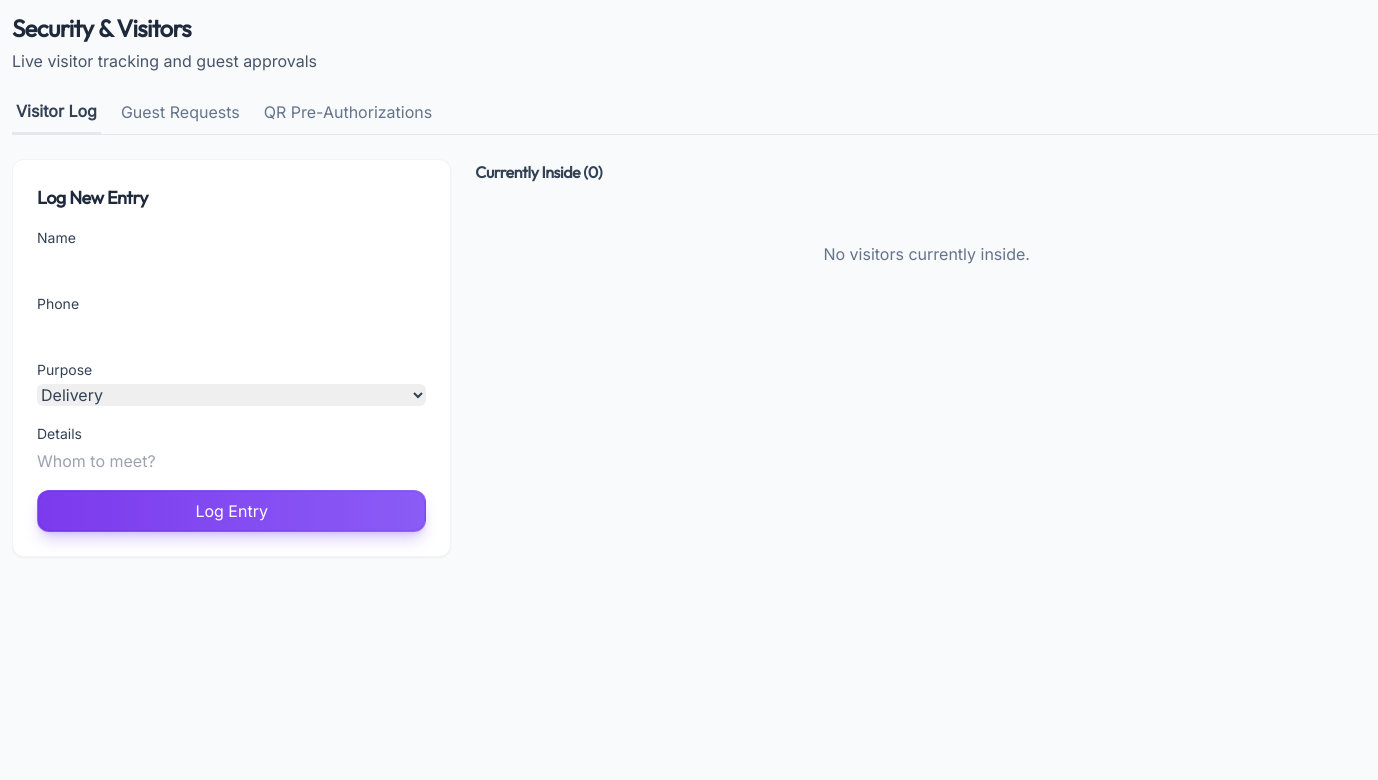
VisitorLog Component – Owner / Security › switches to Guest Requests tab and shows empty state
Click the button "Guest Requests" at (180, 116), box [117,98,244,134]
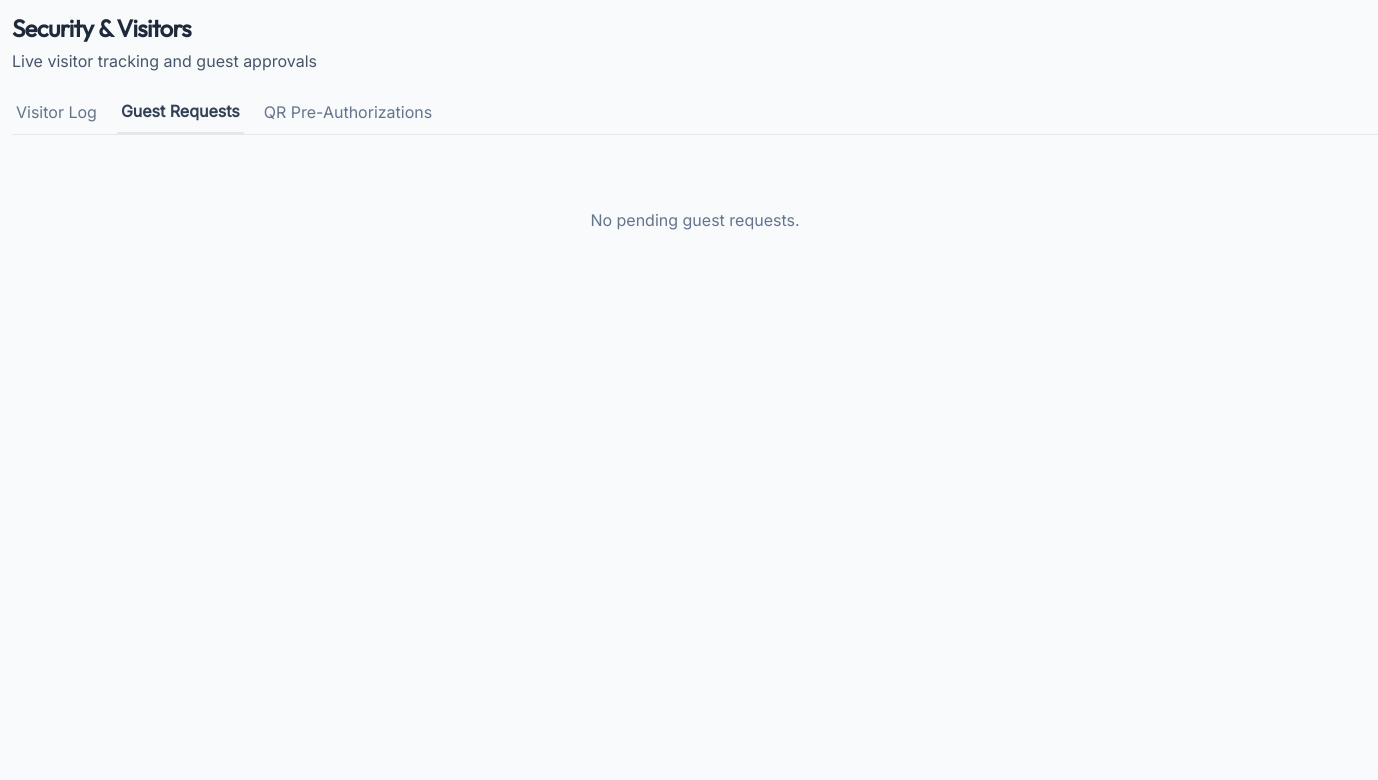
Result: the text "No pending guest requests." is shown at [12,159,1377,281]
